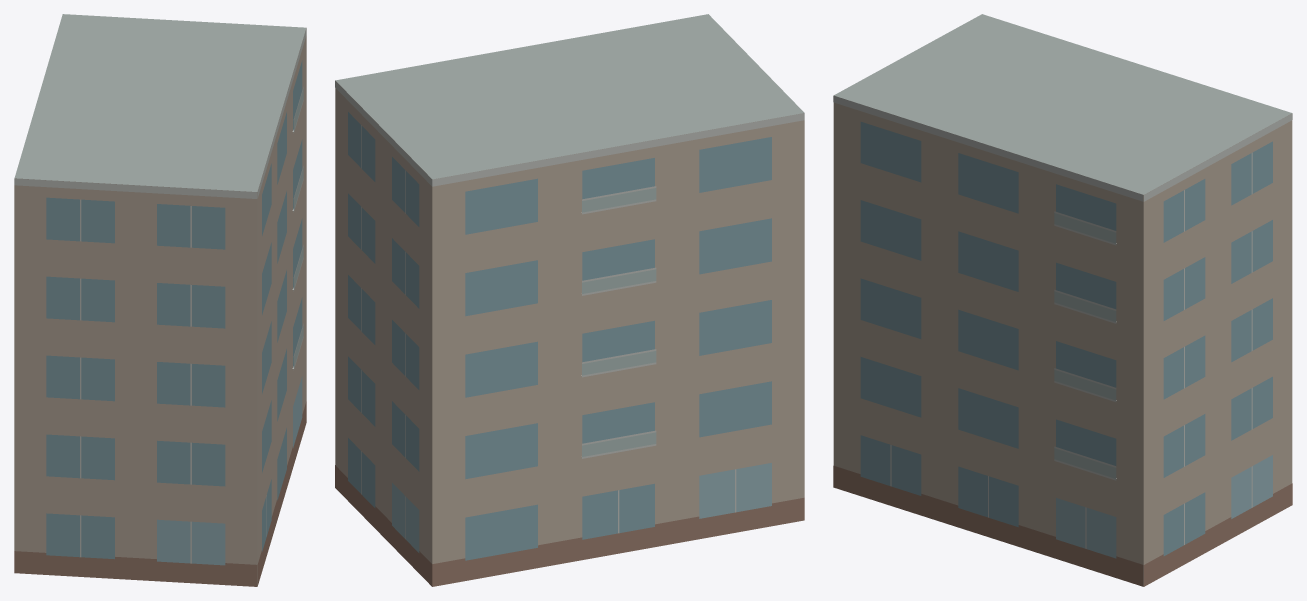
File: survey-upis-32842897.glb
3 views of the same model, side by side, from view 1: azimuth 30°, elevation 25°; view 2: azimuth 150°, elevation 25°; view 3: azimuth 270°, elevation 25° (orthographic). The views are drawn at different scales.
Parts seen in each view (by area): view 1: survey-upis-32842897.tmp; view 2: survey-upis-32842897.tmp; view 3: survey-upis-32842897.tmp.
Part boxes in pixels (x1,y1,x2,y2): survey-upis-32842897.tmp: (14, 14, 306, 586); survey-upis-32842897.tmp: (335, 14, 804, 586); survey-upis-32842897.tmp: (833, 14, 1292, 586).
Size of the model in its own units: 13.57 by 13.7 by 14.55.
